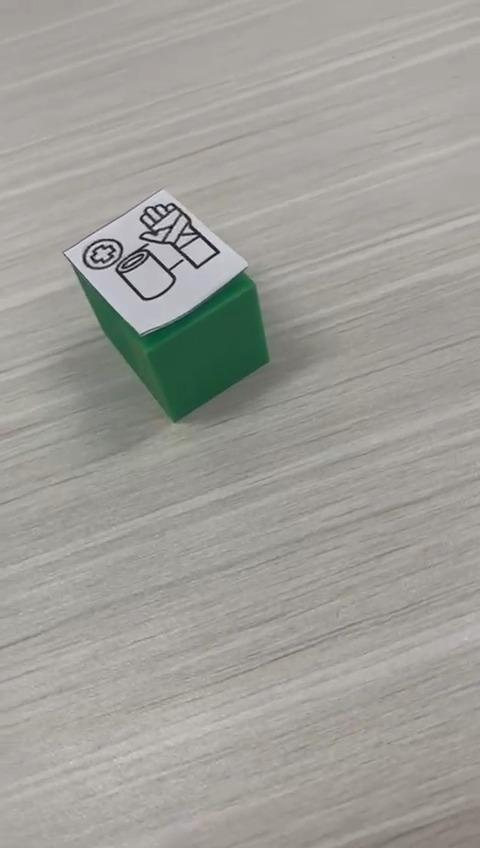Bandages: (63, 186, 272, 422)
